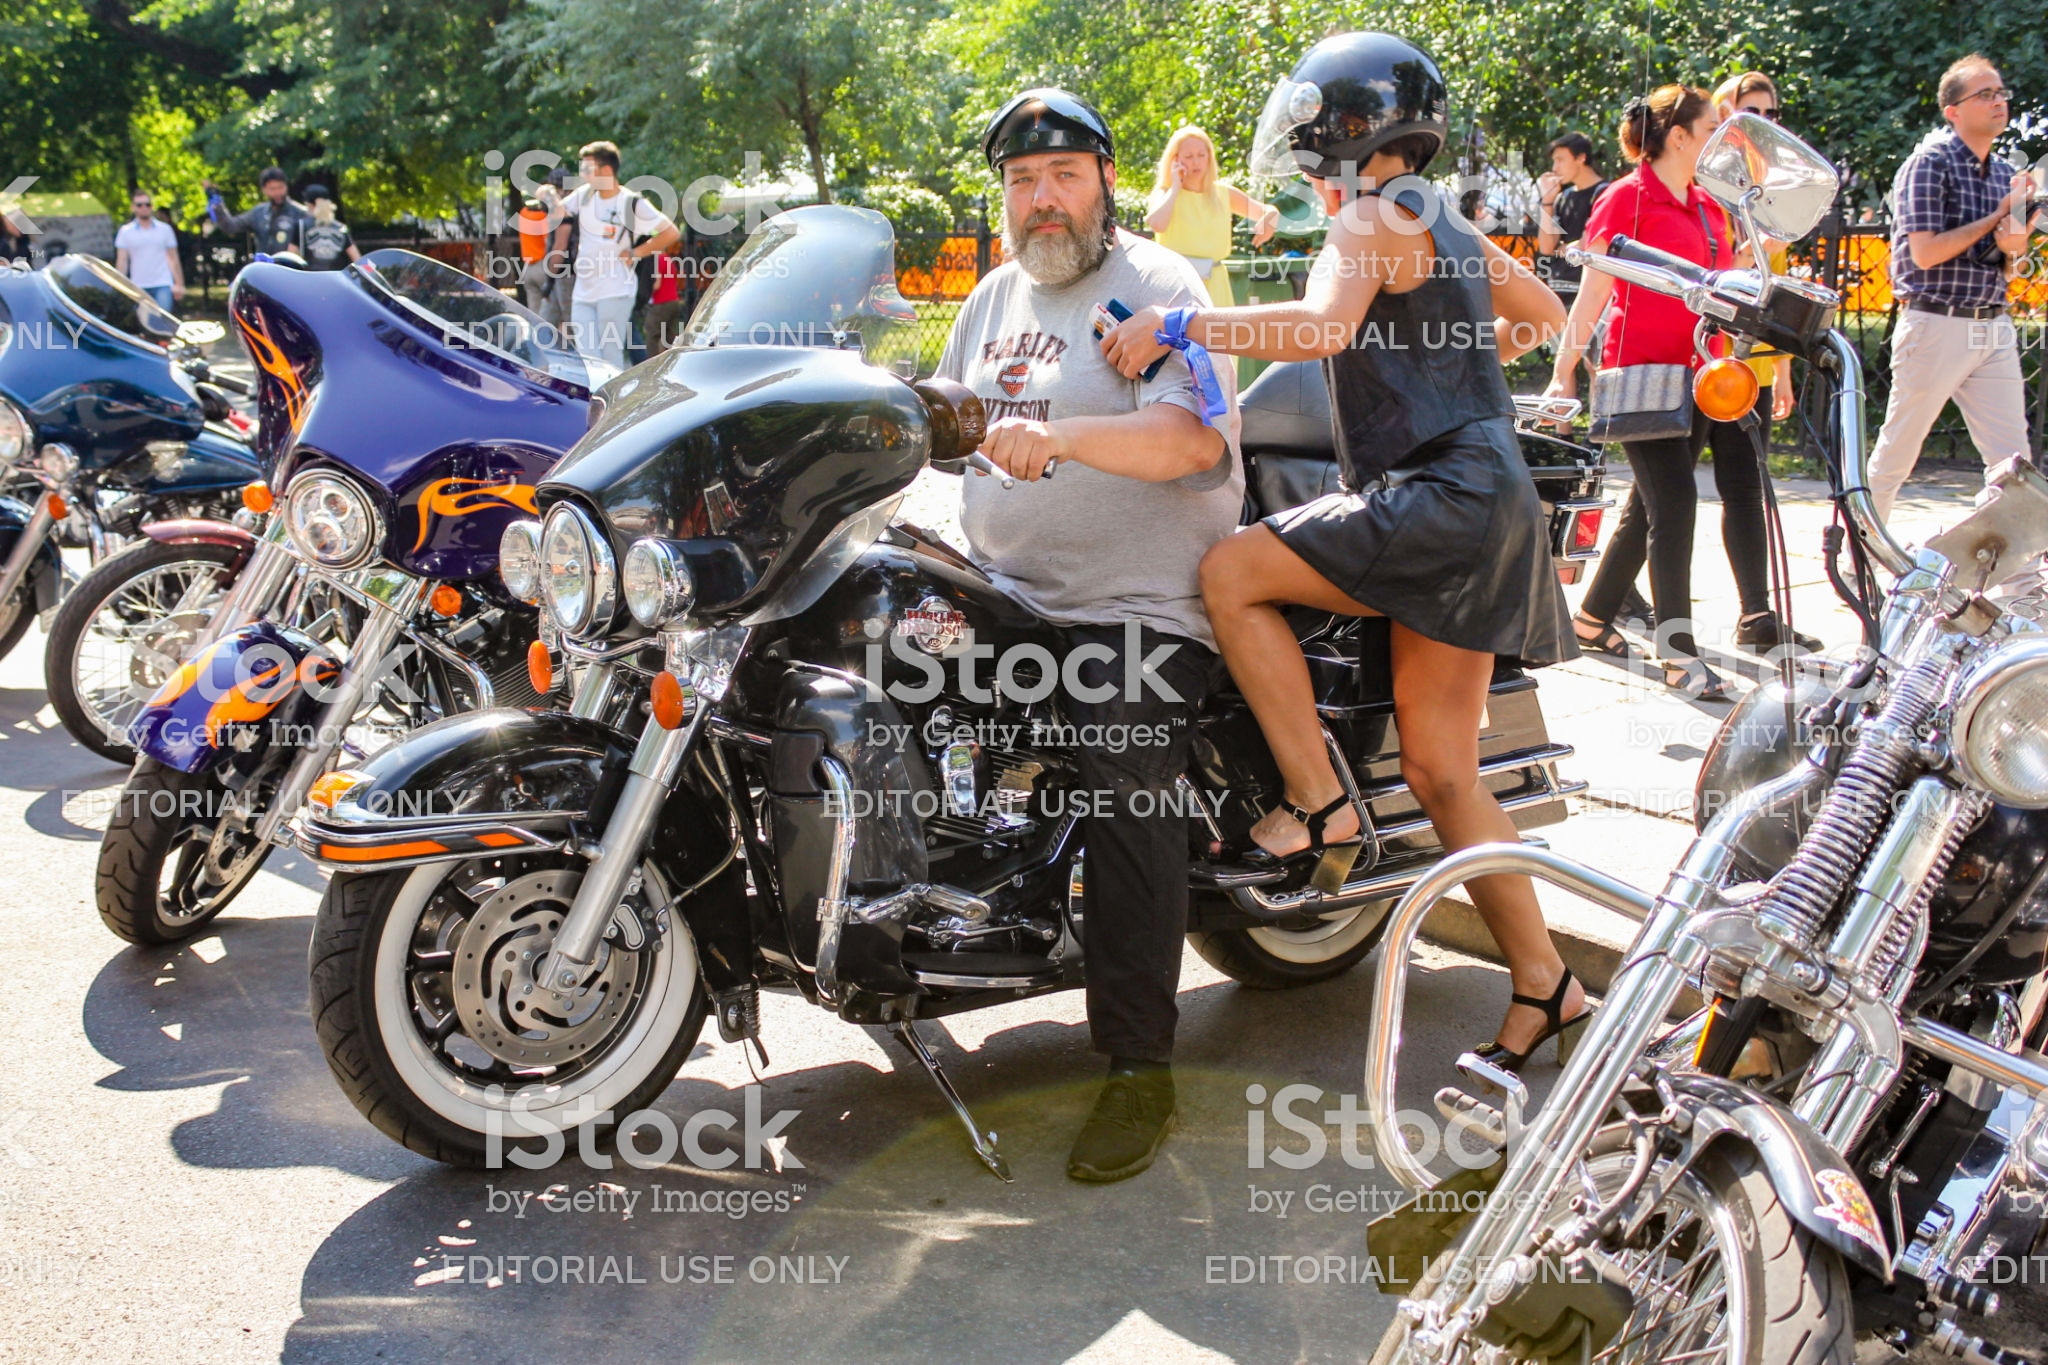helmet: (1278, 30, 1448, 154), (975, 85, 1109, 168)
